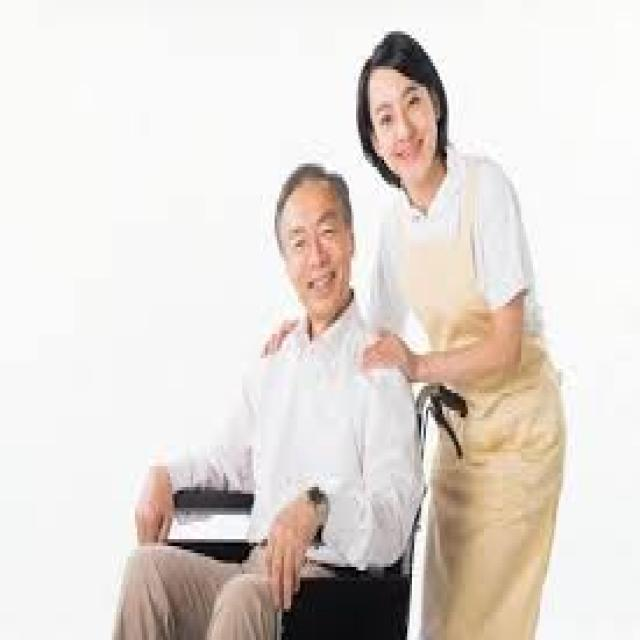wheelchairs: (114, 327, 472, 636)
